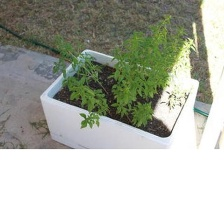foam_box: (35, 46, 204, 149)
